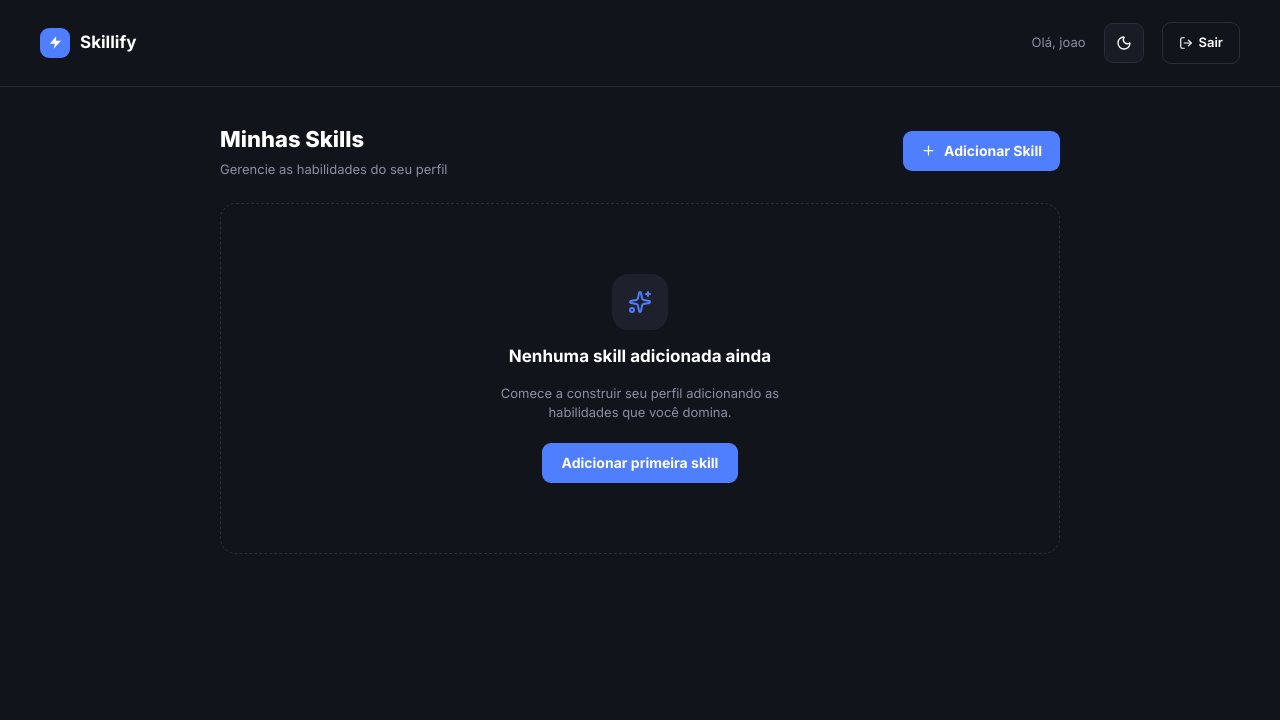
Test: HomePage › adds a skill through the AddSkillModal
This screenshot has width=1280, height=720.
Expected: the text "Nenhuma skill adicionada ainda" is shown, [509,344,771,370]
What coordinates should you click on to do the following:
click the button "Adicionar Skill"
I would click on:
 (982, 151)
Its box is [903,131,1060,171].
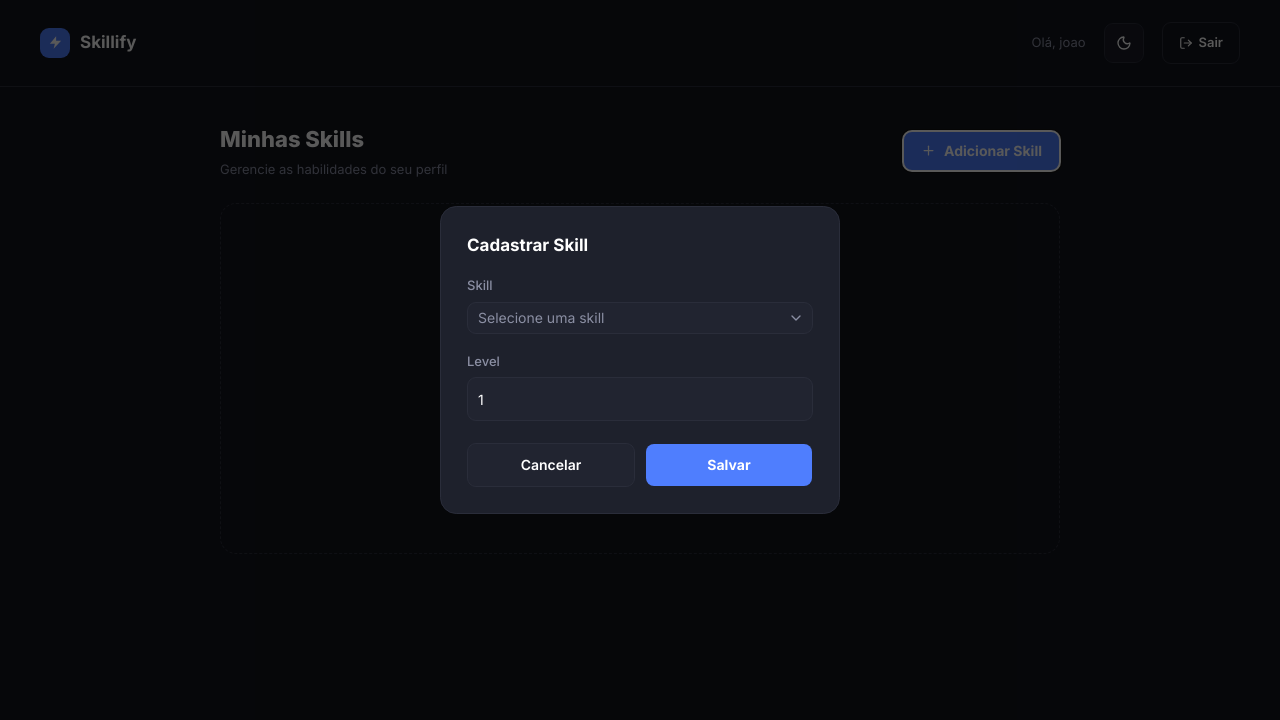
What coordinates should you click on to do the following:
click the dropdown labelled "skill"
I would click on:
 (541, 317)
Its box is [467,302,813,334].
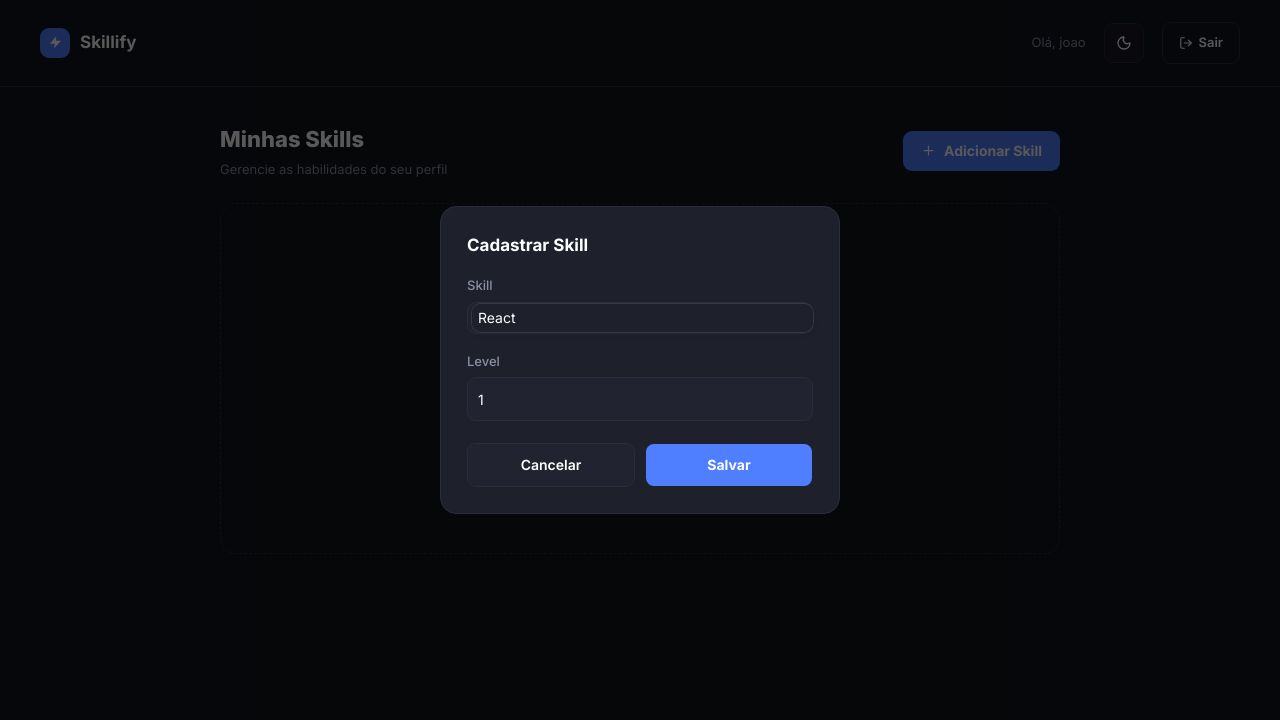
What coordinates should you click on to do the following:
click the option "React"
I would click on:
 (497, 317)
Its box is [472,304,813,332].
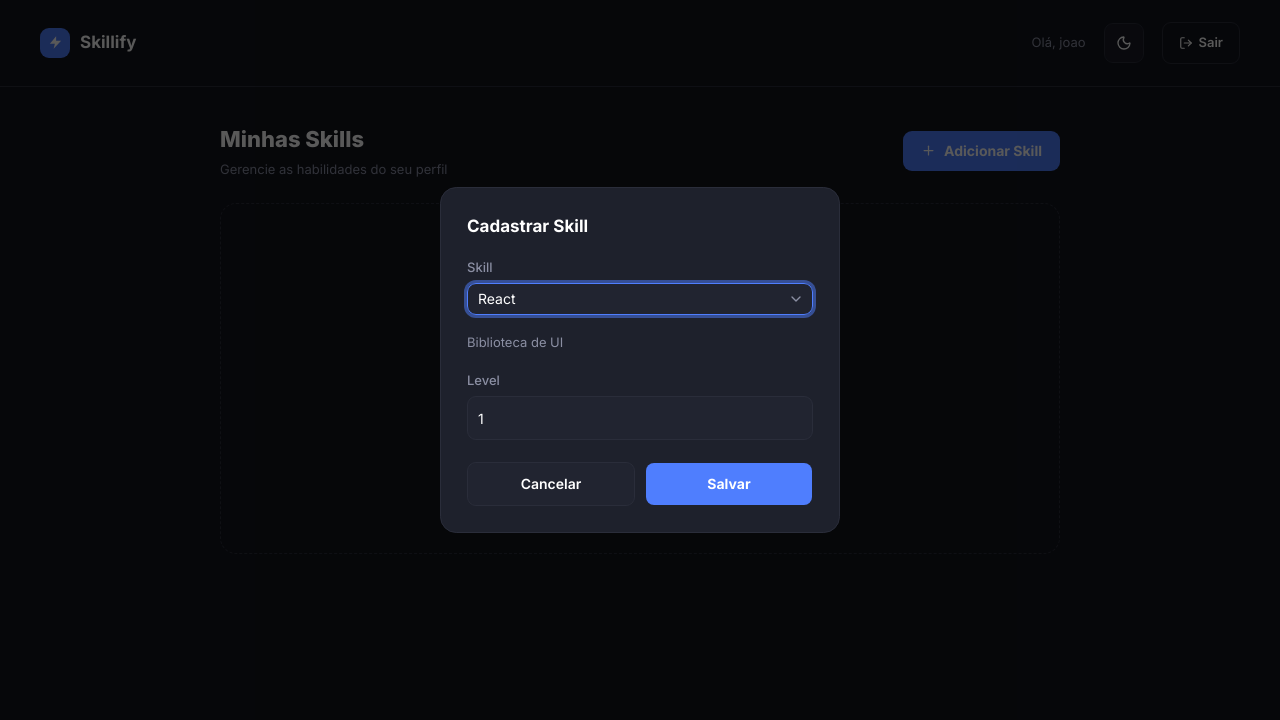
What coordinates should you click on to do the following:
click the button "Salvar"
I would click on:
 (729, 484)
Its box is [645,462,813,506].
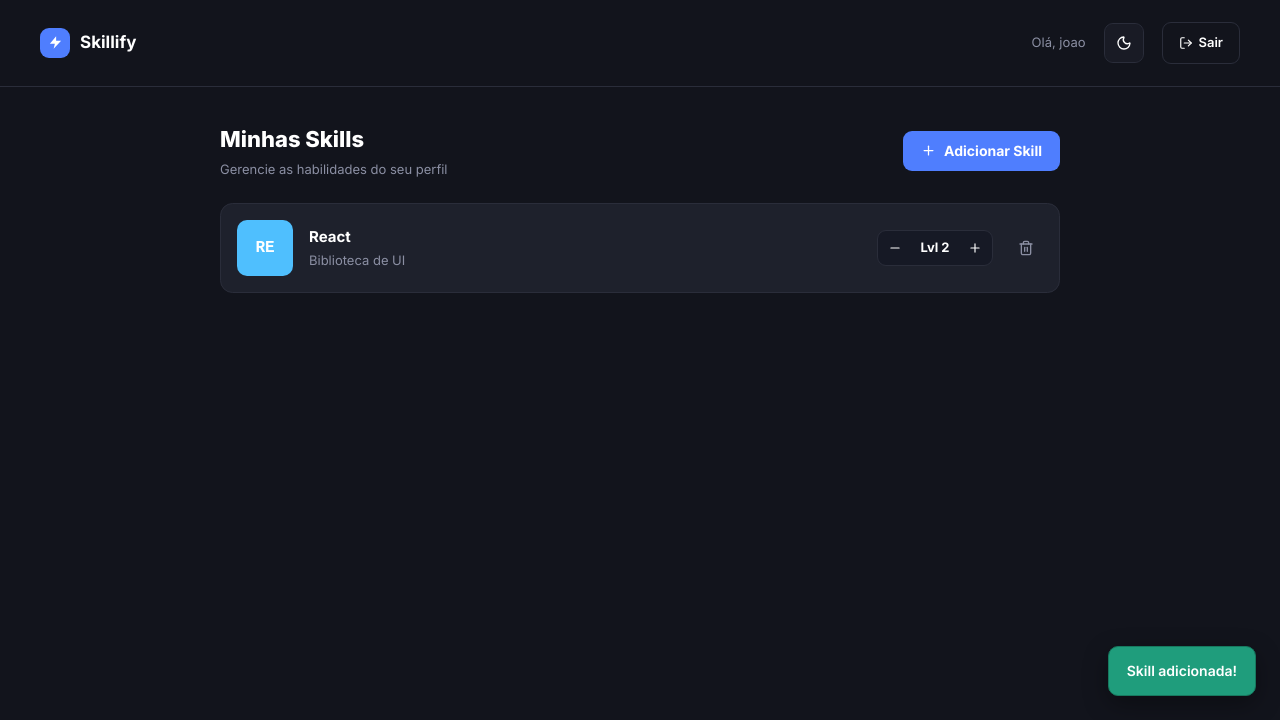
Expected: the text "React" is shown, [309,227,351,246]
Expected: the text "Skill adicionada!" is shown, [1108,646,1256,696]
